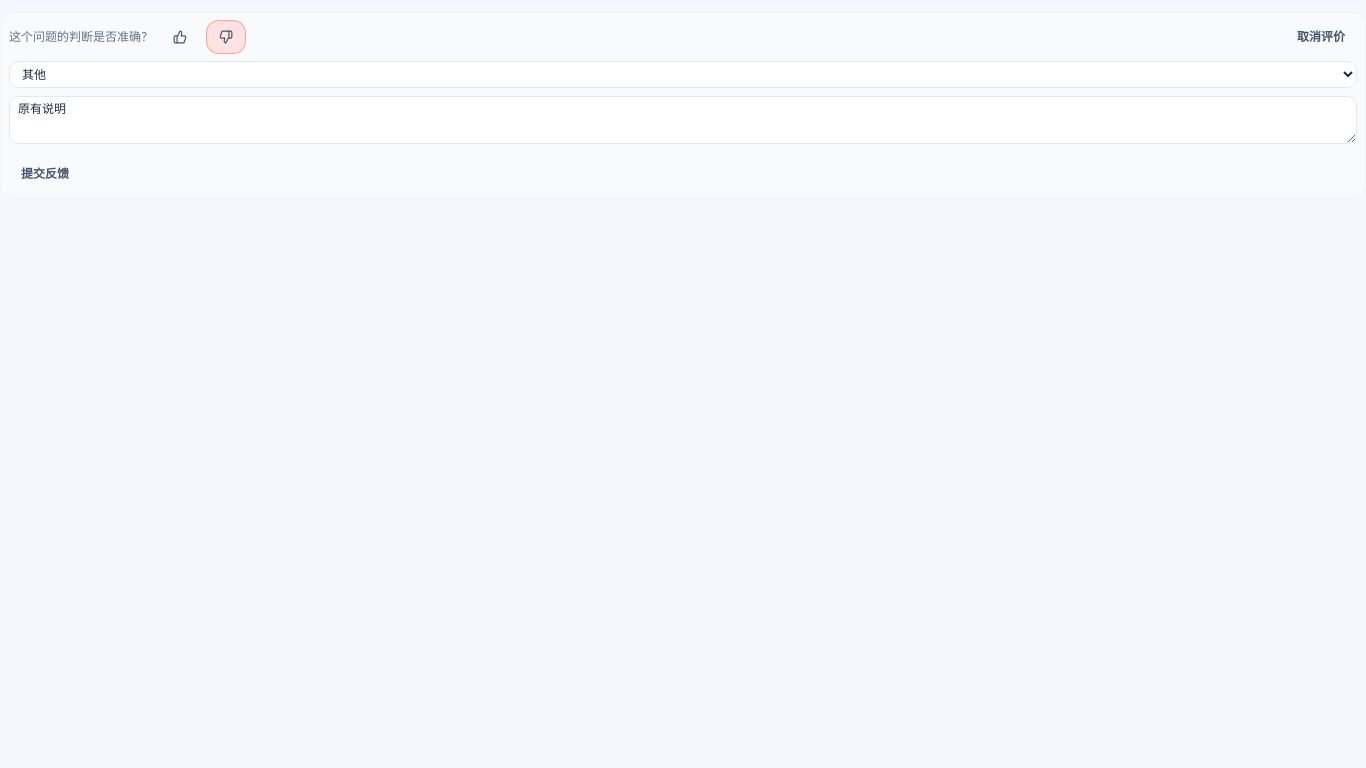
paper lint feedback submission › keeps a rejected reason editable, shows the error inline, and succeeds on retry
The image size is (1366, 768).
Click the button "提交反馈" at coordinates (45, 174), box [9,158,81,190]
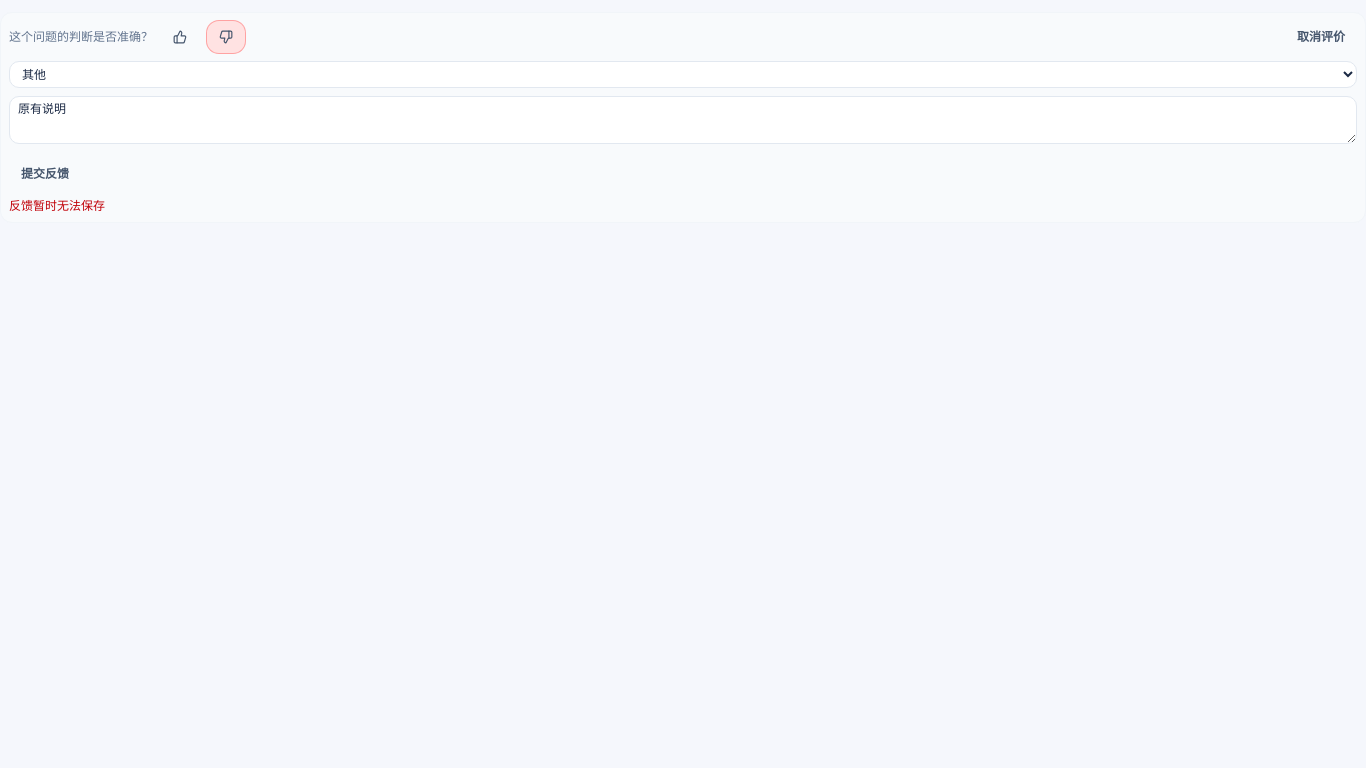
Expected: the dialog "提交成功" is not shown
Expected: the message reads "反馈暂时无法保存", [9,198,105,213]
Click the button "提交反馈" at coordinates (45, 174), box [9,158,81,190]
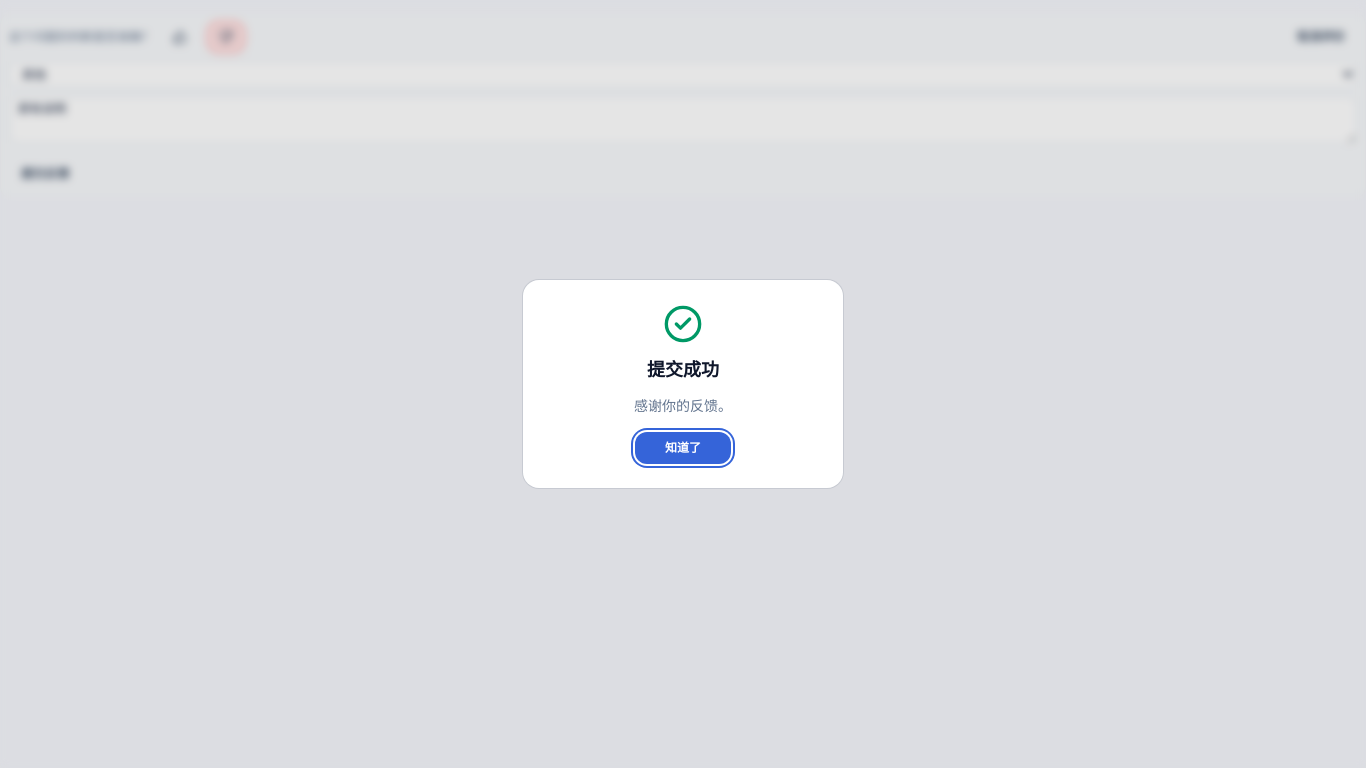
Expected: the dialog "提交成功" is shown, [523,280,843,488]
Expected: the message "反馈暂时无法保存" is gone
